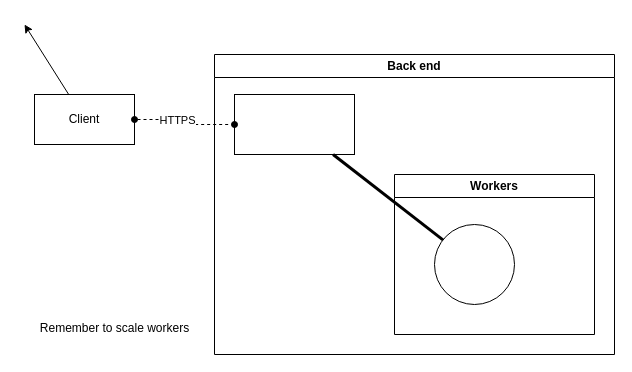
Some shapes in this 632 by 372 pixel diagram are drawn without their labels. The centre of each missing label's shape, as x and y in pixels:
Order service: the point at 294,124
Worker: the point at 474,264
